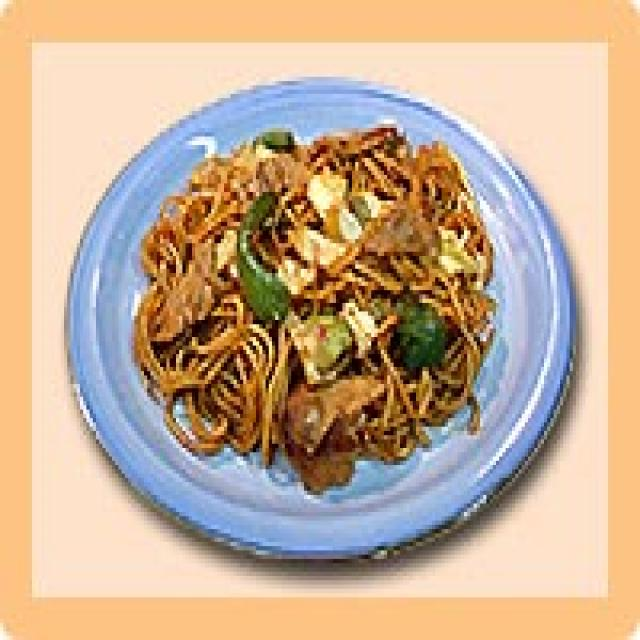面条主食: (58, 73, 582, 563)
